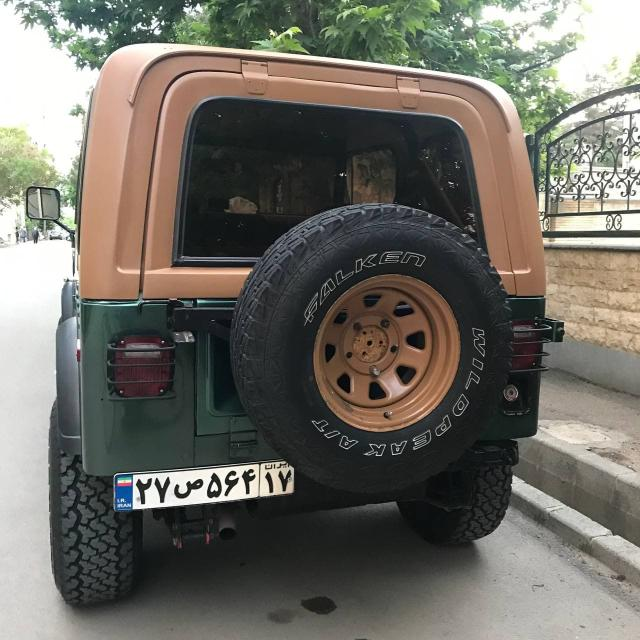Plates: (112, 456, 299, 510)
